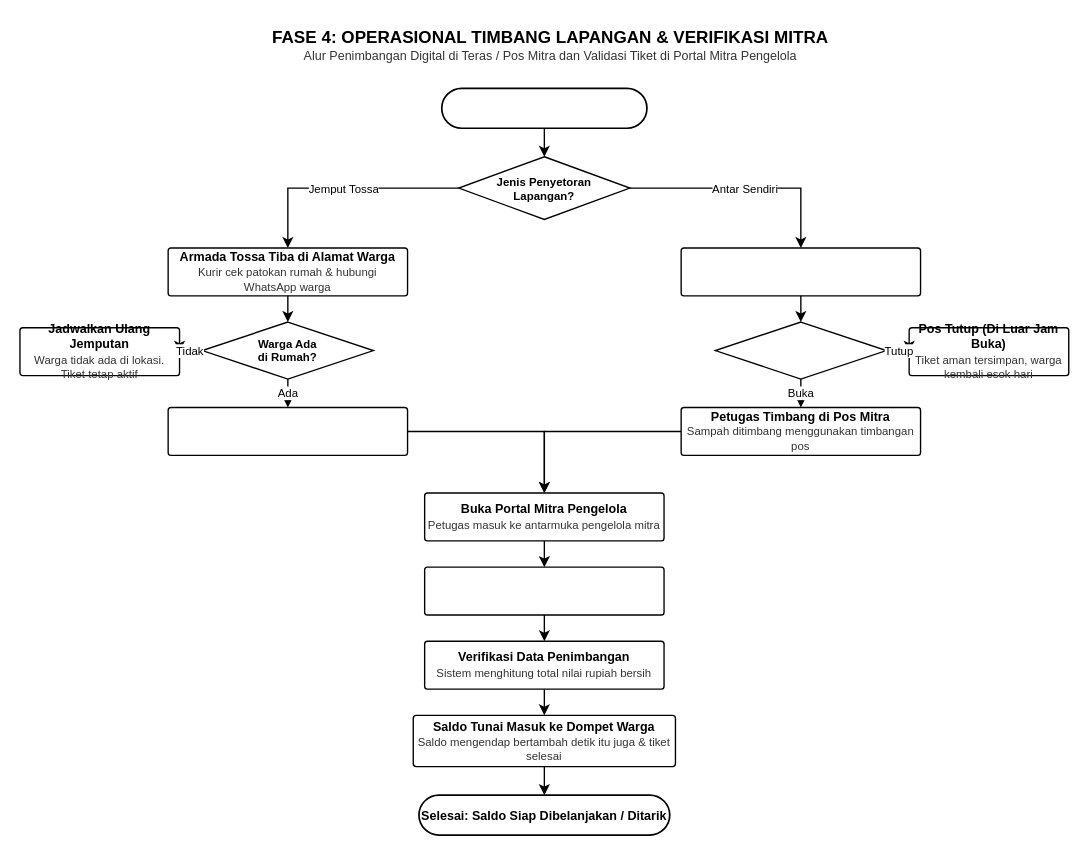
This 1090x855 diagram has some shape labels left out. Here are the shapes that lost their labels. From the top down, the centre of each, then its label:
At pixel 543 108: "Mulai: Tiket Digital Aktif".
At pixel 800 271: "Warga Bawa Sampah ke Pos Mitra Tiba di lokasi Bank Sampah / TPS3R Mitra".
At pixel 800 350: "Pos Sedang Buka? (13.00 - 16.00 WIB)".
At pixel 287 431: "Timbang Digital di Teras Rumah Karung digantung di timbangan kurir & dicatat".
At pixel 543 590: "Input Nomor Tiket & Bobot Riil Ketik PLH-XXXXXX dan angka timbangan nyata".
